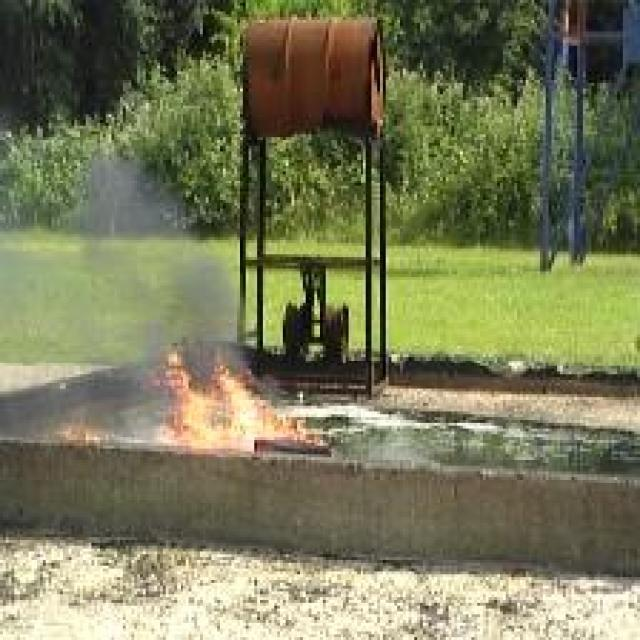Fire: (166, 348, 323, 452)
